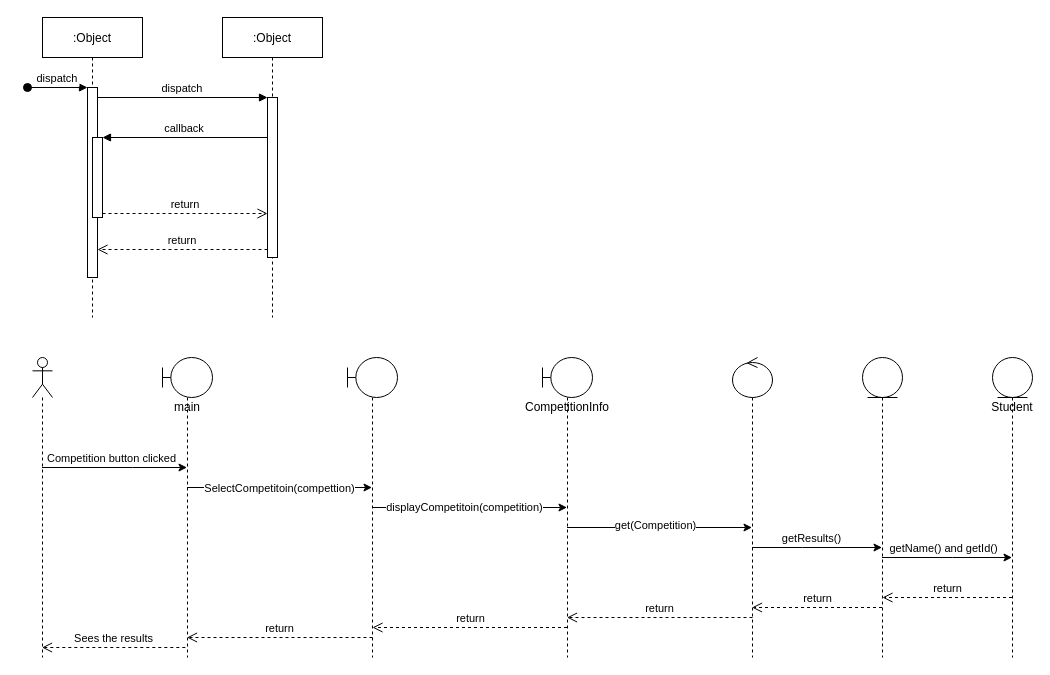
Some shapes in this 1050 by 675 pixel diagram are drawn without their labels. Each missing label, with the box of its shape:
Competition: (862, 356, 902, 658)
CompetitionList: (346, 356, 398, 658)
CompetitionManager: (732, 356, 772, 658)
